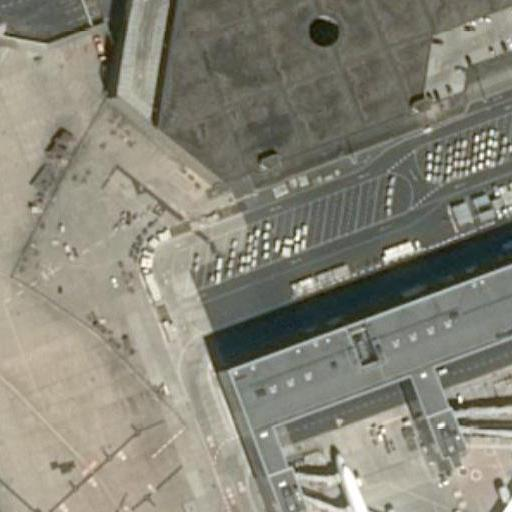Aircraft: (257, 456, 459, 512), (473, 372, 512, 512)
